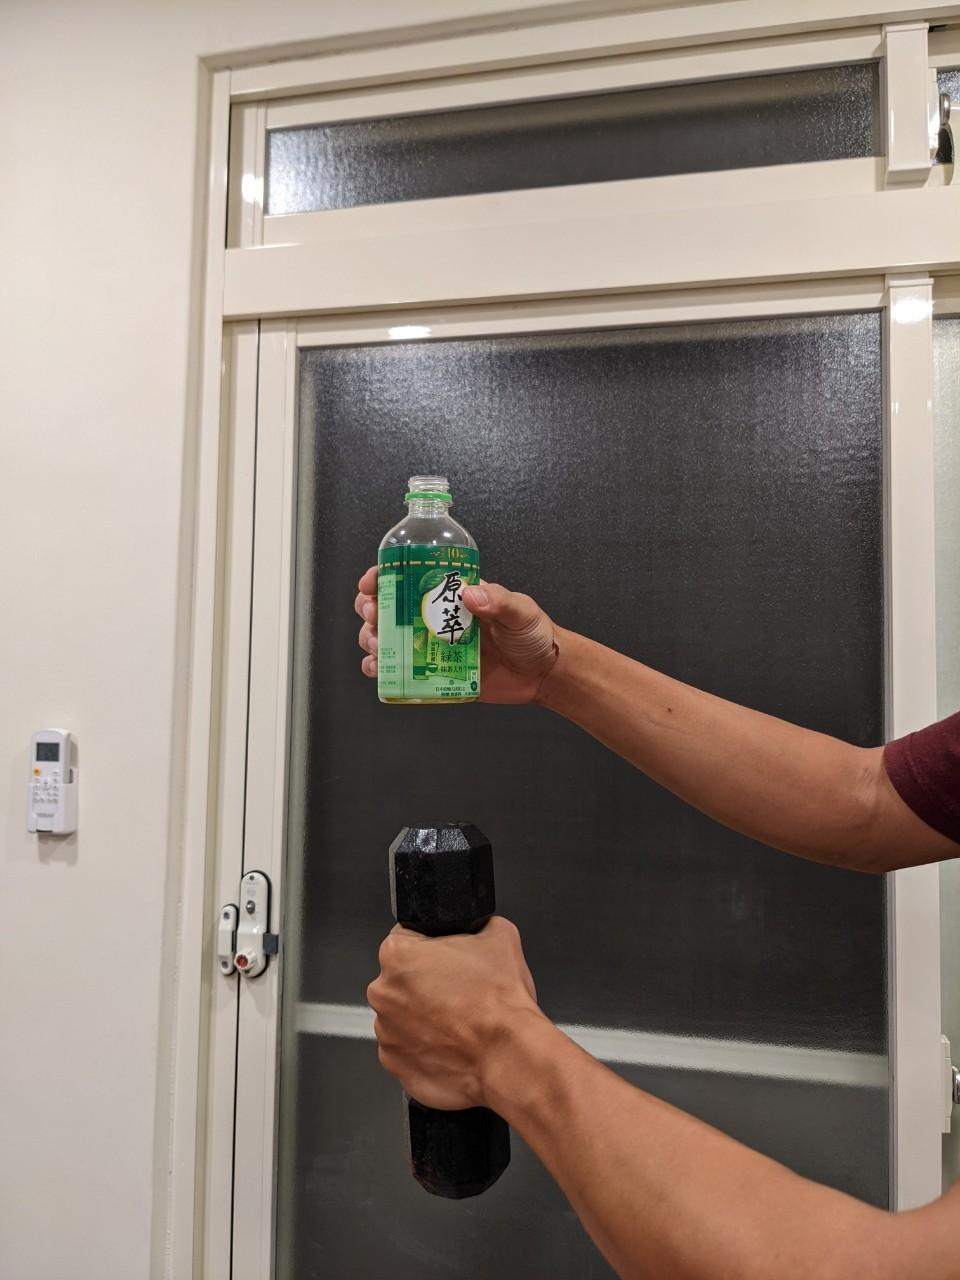BIODEGRADABLE: (362, 468, 495, 697)
